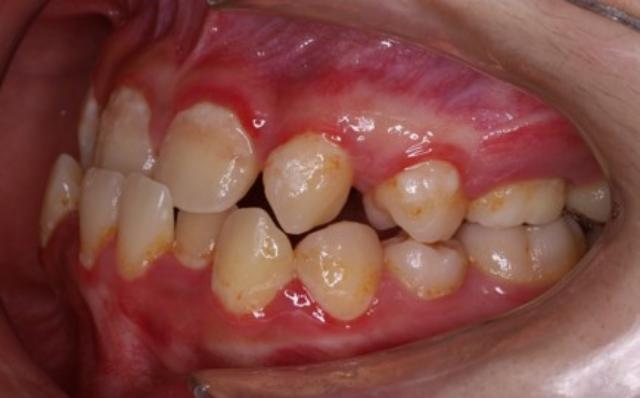canine class II 1/4: (210, 116, 386, 332)
molar class II 1/2: (464, 167, 592, 296)
